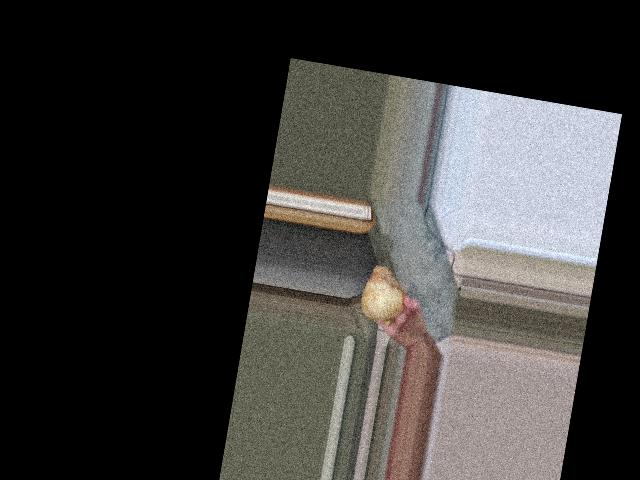onion: (361, 262, 412, 324)
